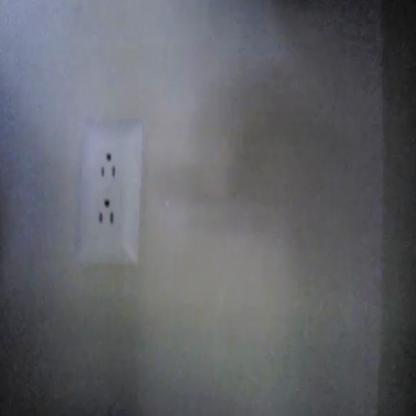OUTLET: (73, 120, 143, 265)
